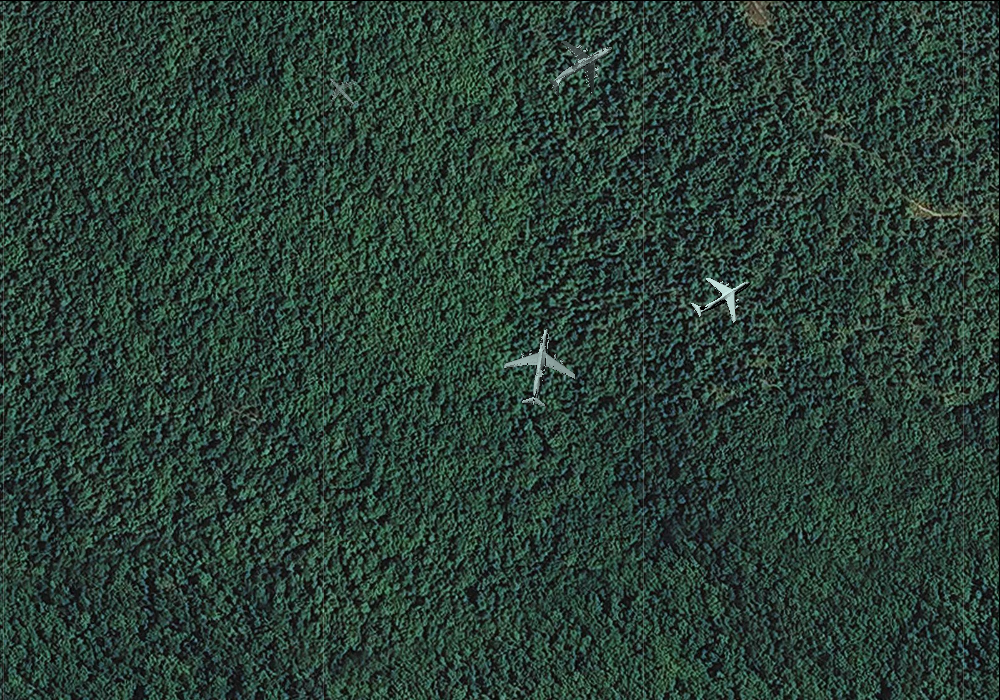plane: (532, 19, 630, 115), (496, 322, 582, 412), (679, 254, 764, 338), (316, 65, 367, 117)
